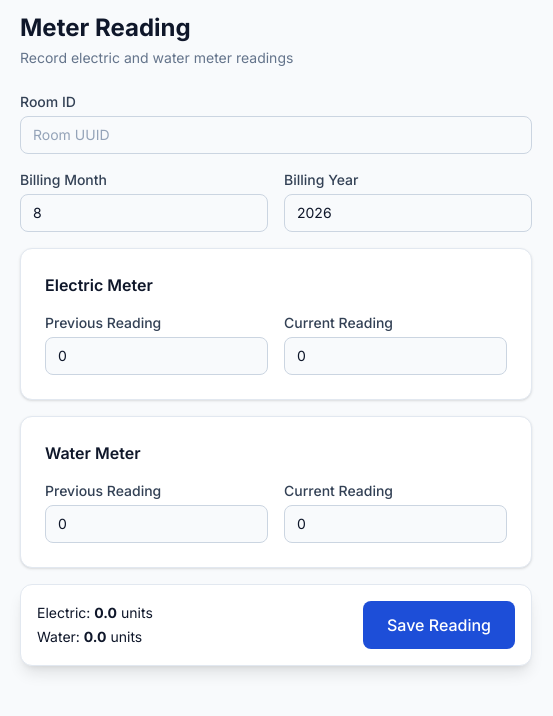
MeterReadingPage › shows error when room ID is empty
Click submit without filling room ID
Step 1. Click the button "Save Reading" → click(439, 625), box [363, 601, 515, 649]
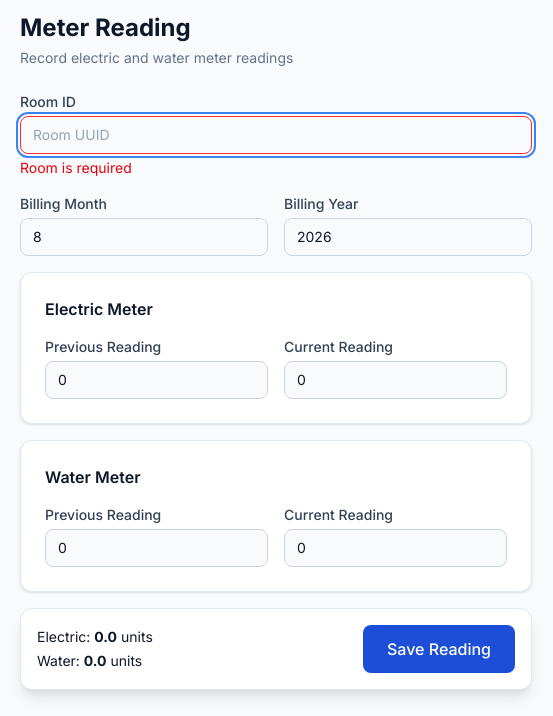
Check: the text "Room is required" is shown, box [20, 159, 132, 176]
